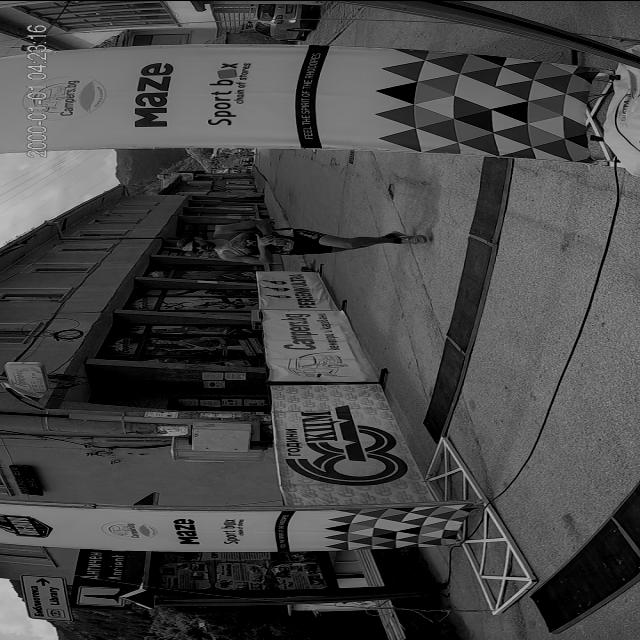runner: (168, 208, 444, 277)
